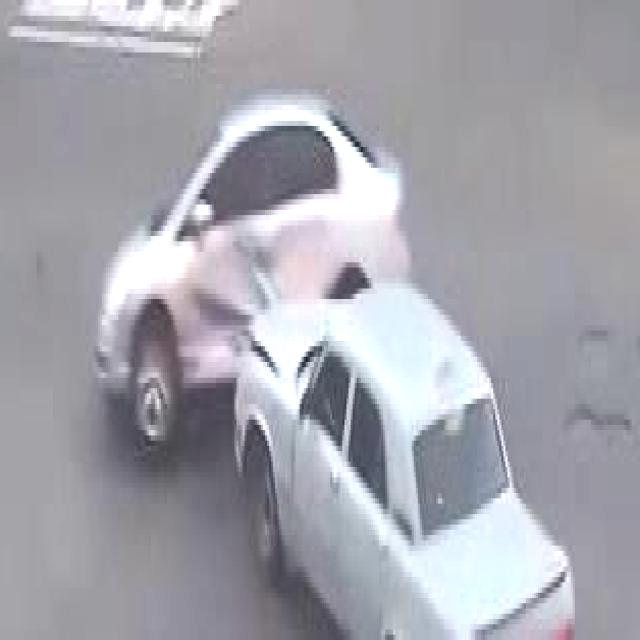accident: (89, 86, 579, 640)
